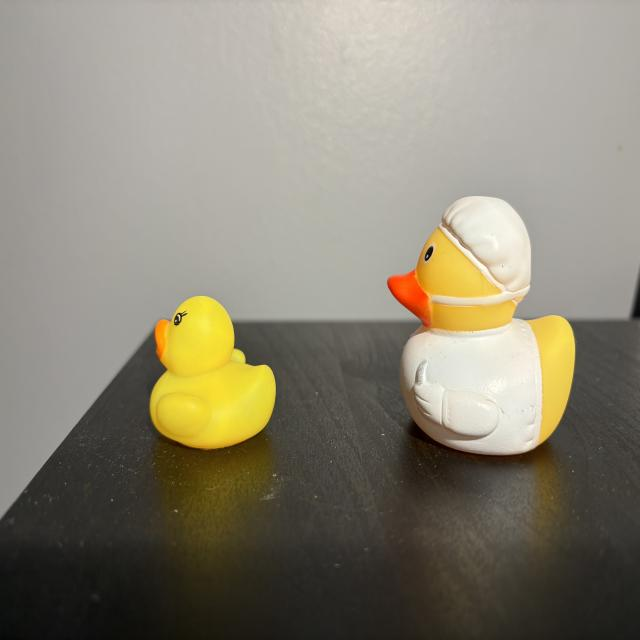duck_regular: (151, 295, 277, 452)
duck_specialty: (389, 195, 579, 454)
